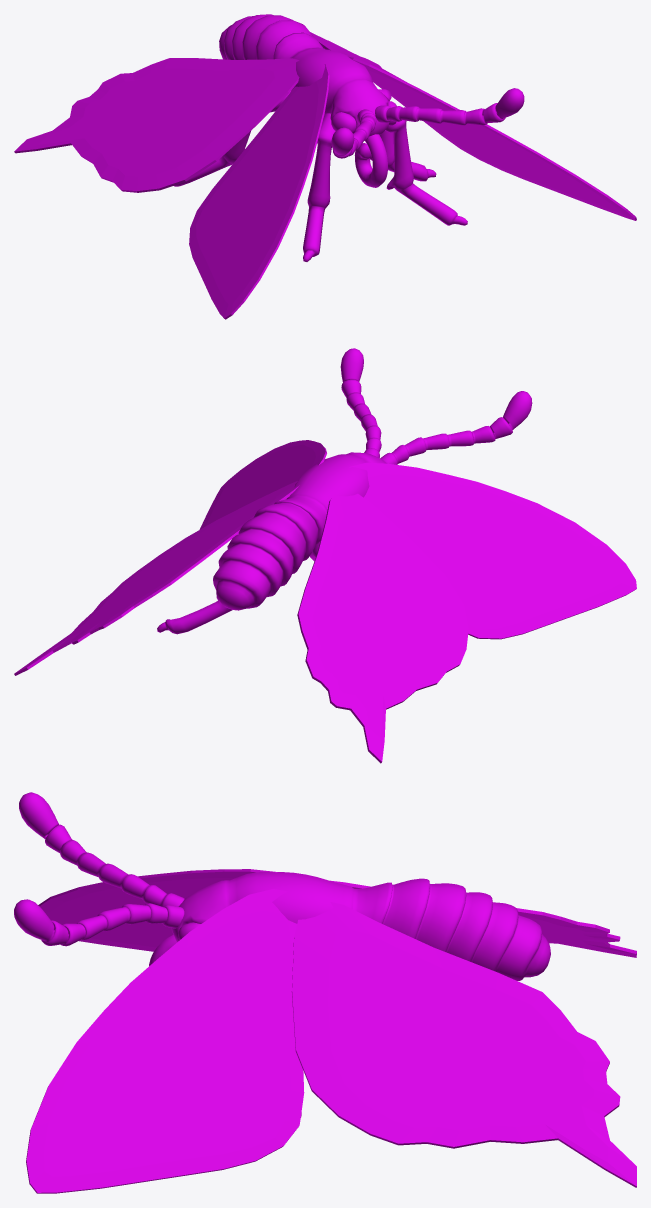
The model's file is bug-1.fbx.
The picture shows the model from 3 angles, top to bottom: view 1: azimuth 30°, elevation 25°; view 2: azimuth 150°, elevation 25°; view 3: azimuth 270°, elevation 25°; orthographic projection. The views are drawn at different scales.
Parts seen in each view (by area): view 1: Plane.003, 19920_Eastern_Tiger_Swallowtail_Butterfly_v2_NEW, Plane.002, Plane, Plane.001; view 2: Plane.003, Plane.002, 19920_Eastern_Tiger_Swallowtail_Butterfly_v2_NEW, Plane.001, Plane; view 3: Plane.001, Plane, 19920_Eastern_Tiger_Swallowtail_Butterfly_v2_NEW, Plane.002, Plane.003.
Boxes of the visible parts, <box> form: Plane.003: <box>14,58,299,192</box>; 19920_Eastern_Tiger_Swallowtail_Butterfly_v2_NEW: <box>174,14,524,261</box>; Plane.002: <box>189,64,329,319</box>; Plane: <box>348,56,636,220</box>; Plane.001: <box>310,32,403,80</box>; Plane.003: <box>297,493,468,763</box>; Plane.002: <box>349,462,636,639</box>; 19920_Eastern_Tiger_Swallowtail_Butterfly_v2_NEW: <box>157,348,532,634</box>; Plane.001: <box>14,481,299,675</box>; Plane: <box>199,440,326,529</box>; Plane.001: <box>291,902,636,1187</box>; Plane: <box>26,889,304,1193</box>; 19920_Eastern_Tiger_Swallowtail_Butterfly_v2_NEW: <box>14,792,550,1117</box>; Plane.002: <box>38,869,277,951</box>; Plane.003: <box>330,880,636,957</box>.
Bounding box in the file's own units: 1207 × 489 × 1222.
